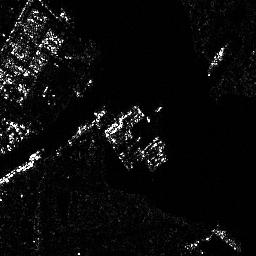ship: (211, 228, 242, 253)
